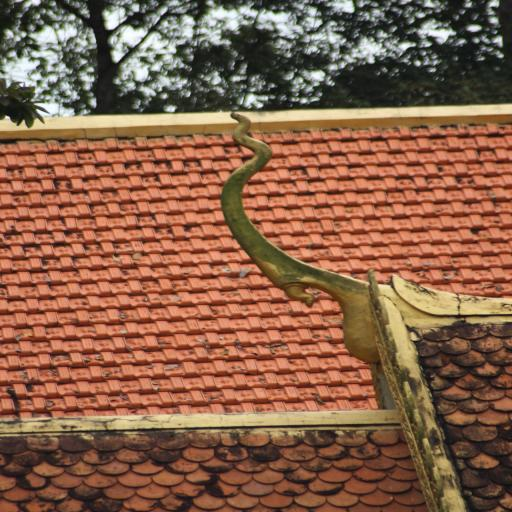ran: (218, 108, 512, 364)
